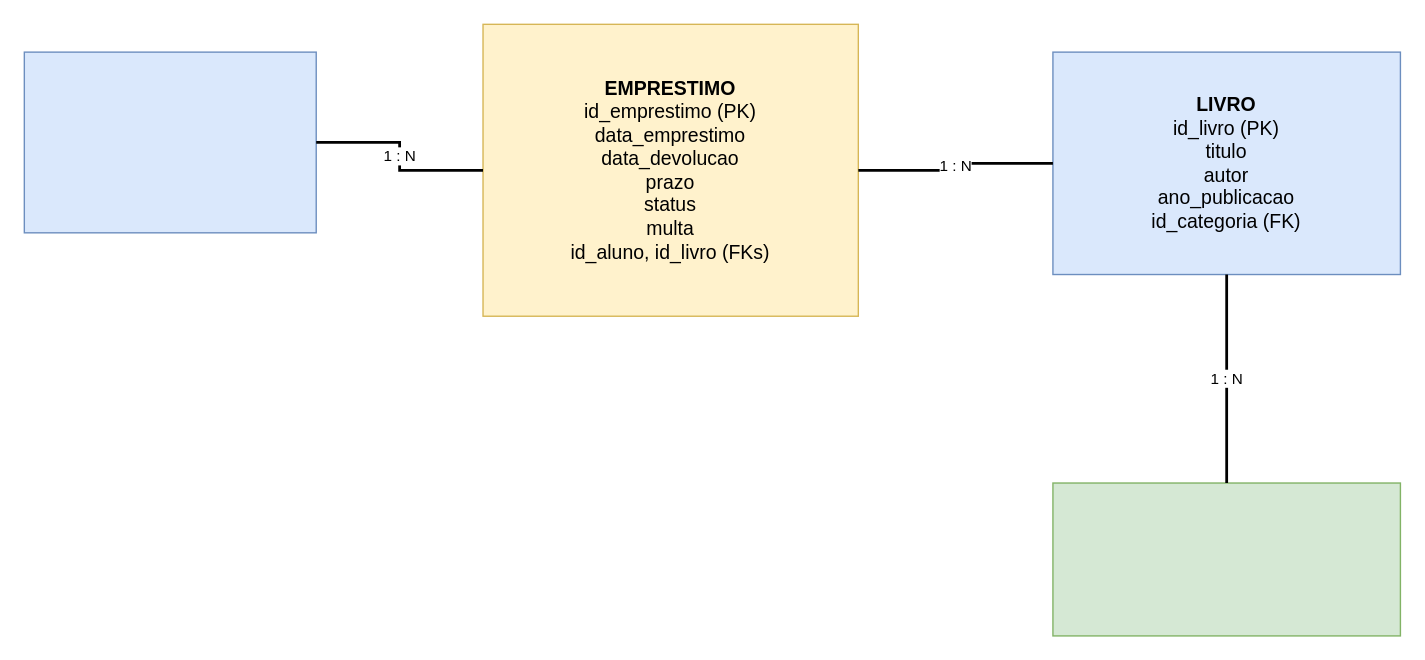
The diagram is 1425 pixels wide and 660 high, and some of its shapes have lost their labels. Here are the shapes that lost their labels. From the top down, the centre of each, then its label:
At pixel 169 142: "ALUNO id_aluno (PK) nome turma".
At pixel 1226 559: "CATEGORIA id_categoria (PK) nome".
